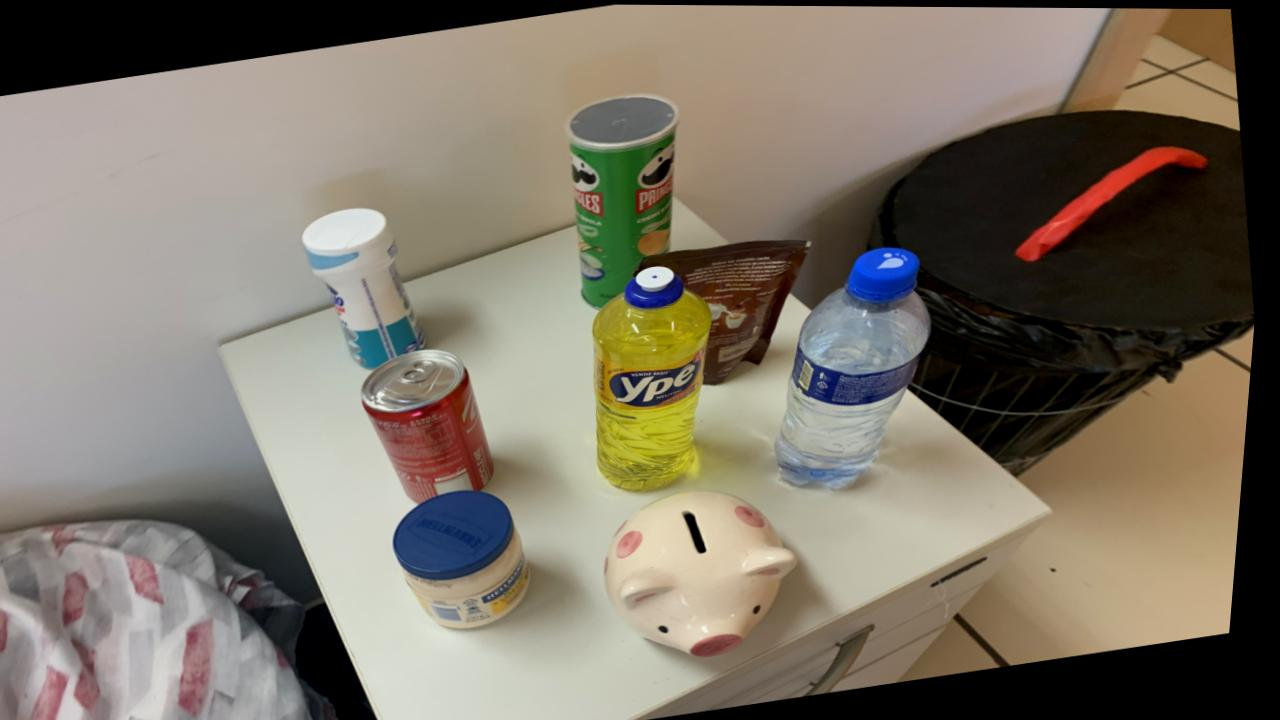Cleaner-Cleanup_Items: (306, 207, 430, 368)
Coffee-Pantry_Items: (643, 238, 815, 383)
Coke-Drinks: (367, 348, 501, 502)
Detergent-Cleanup_Items: (598, 265, 717, 489)
Mayonnaise-Pantry_Items: (403, 488, 541, 628)
Pig_Safe-Miscellaneous: (613, 489, 807, 656)
Pringles-Snacks: (567, 91, 680, 306)
Water_Bottle-Drinks: (783, 246, 937, 486)
